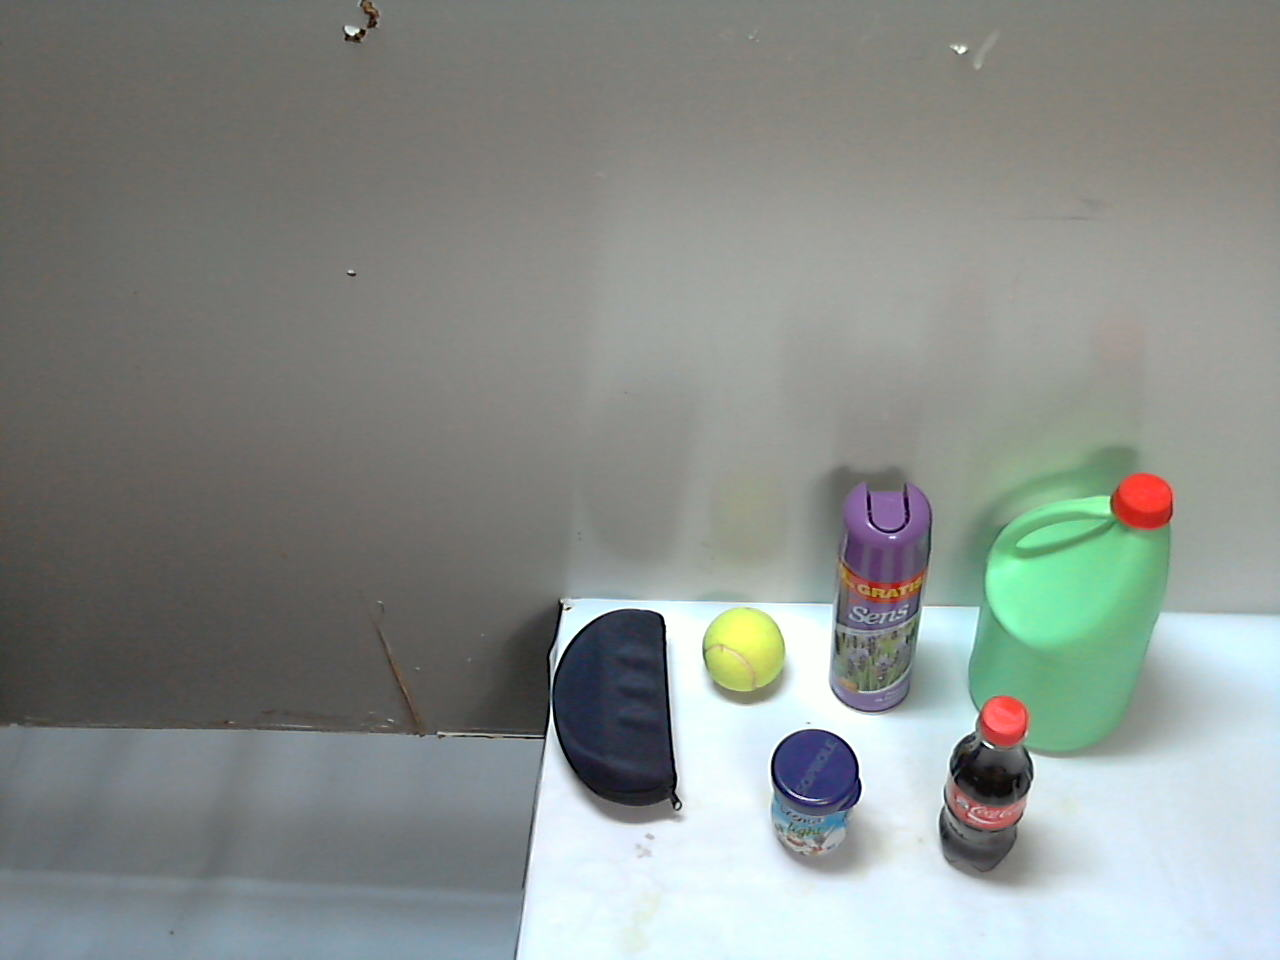borrador: (651, 748, 880, 886)
cloro: (557, 491, 732, 751)
guante: (869, 626, 1149, 960)
leche: (702, 545, 886, 786)
uslero: (407, 798, 951, 960)
yogurt: (433, 547, 585, 832)
